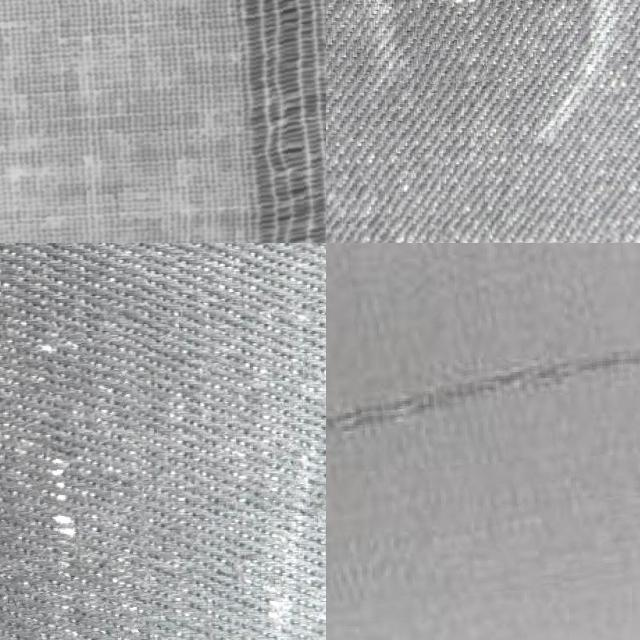Thread_other: (326, 243, 640, 596), (0, 337, 148, 640), (409, 0, 536, 83)
